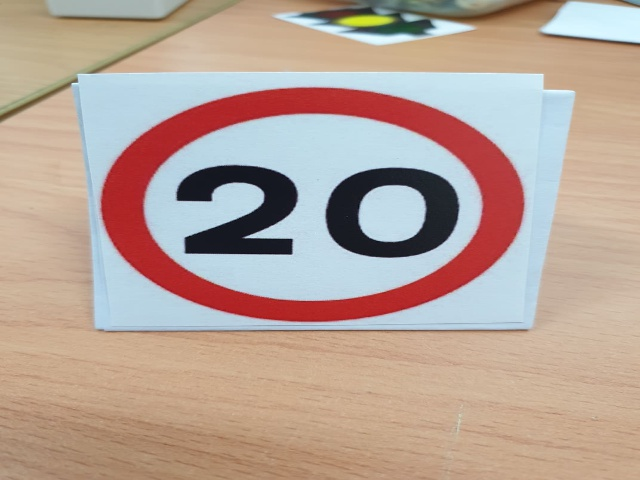Limit 20: (80, 75, 524, 321)
